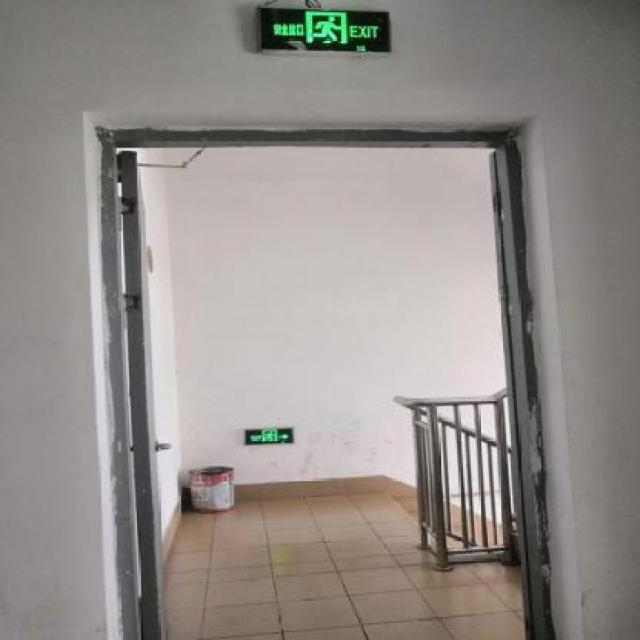exit_sign: (243, 0, 402, 56)
